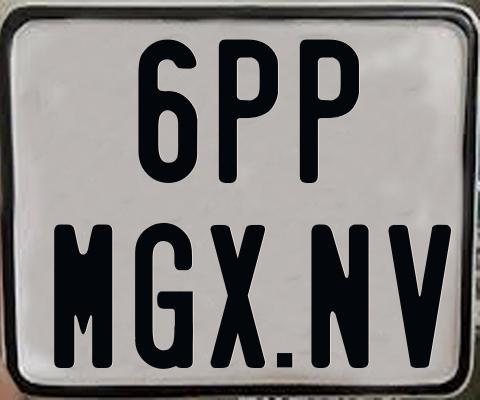6: (135, 37, 197, 182)
G: (134, 220, 195, 367)
M: (53, 222, 114, 367)
N: (308, 222, 370, 367)
P: (297, 37, 359, 187), (216, 37, 275, 186)
V: (387, 224, 451, 371)
X: (207, 222, 268, 369)
